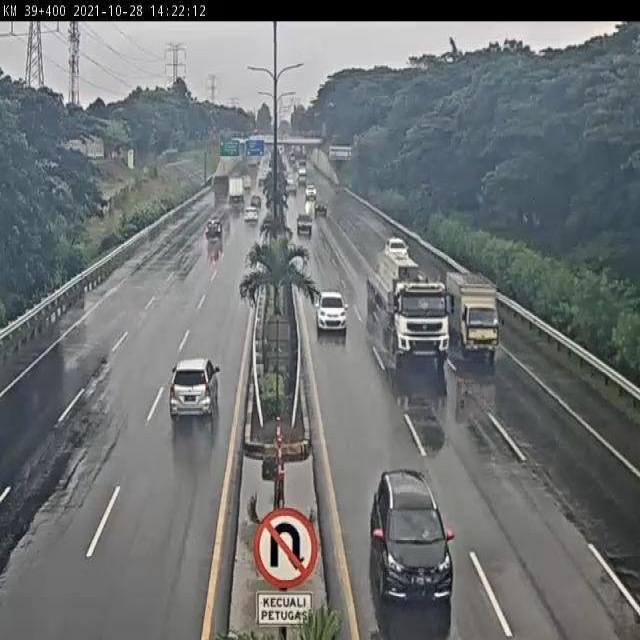car: (369, 464, 457, 611), (166, 356, 222, 427), (313, 288, 349, 337), (203, 213, 224, 244)
small truck: (446, 265, 507, 356)
truck-xl-: (365, 249, 451, 372)
